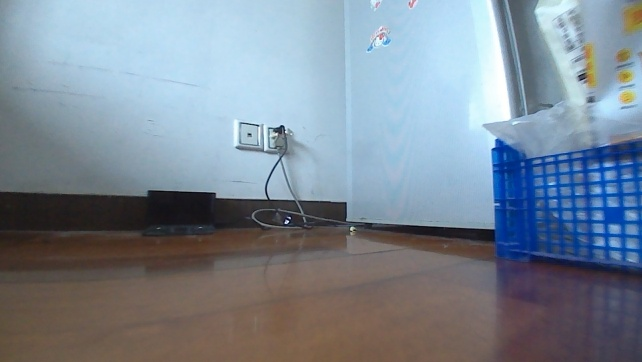charger: (139, 187, 220, 236)
refrigerator1: (340, 0, 565, 241)
wire: (218, 124, 350, 234)
